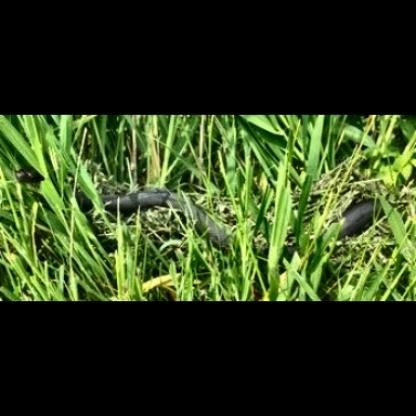Snake: (105, 178, 256, 258)
